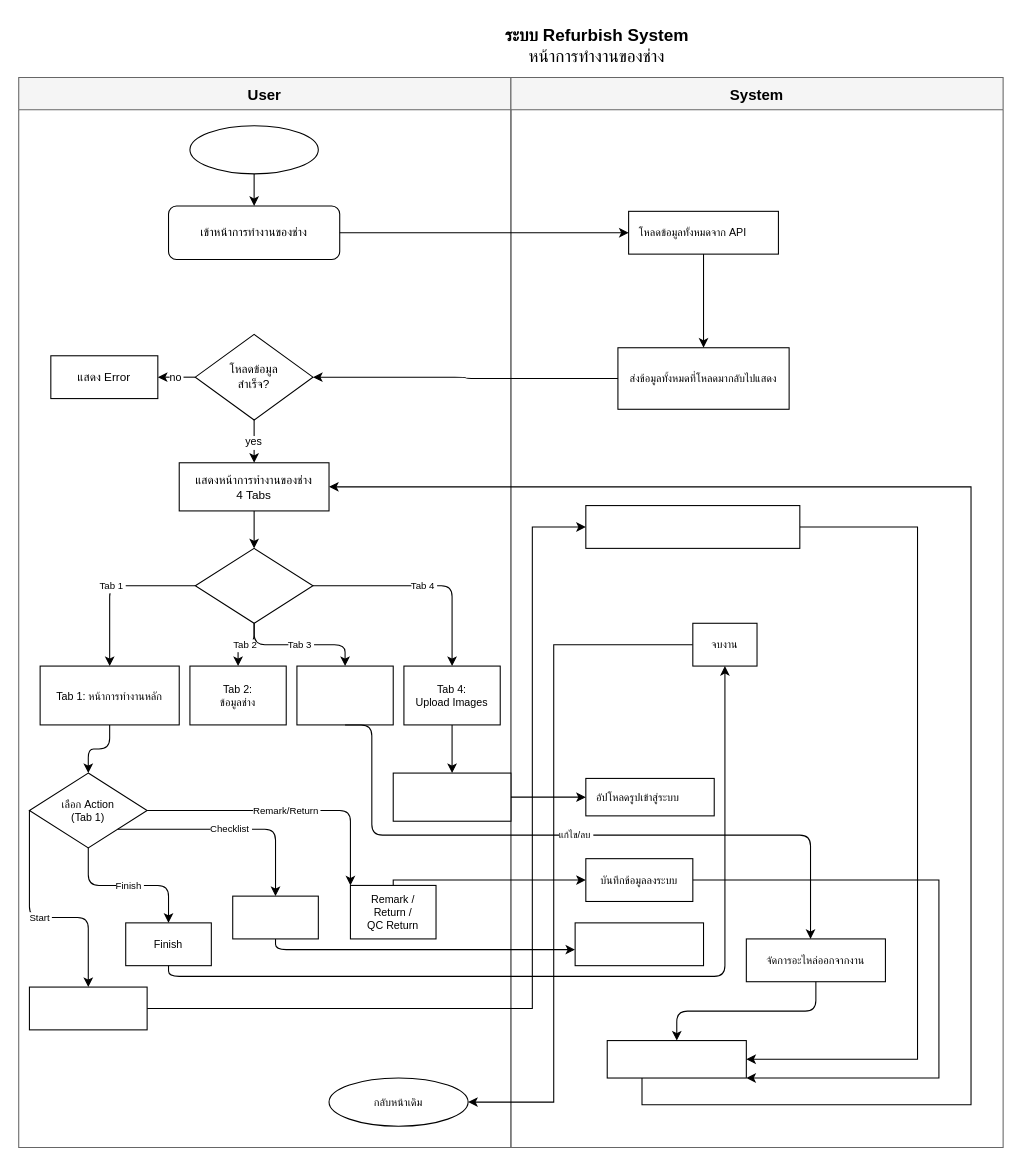
The diagram is 1022 pixels wide and 1166 high, and some of its shapes have lost their labels. Here are the shapes that lost their labels. From the top down, the centre of each, then its label:
At (253,149): "เริ่มต้น".
At (692,526): "บันทึกข้อมูลช่างที่ทำงานลงระบบ".
At (253,585): "เลือก Tab?".
At (344,695): "Tab 3: Spare Parts".
At (451,796): "เลือกรูป + กดบันทึกรูปทั้งหมด".
At (275,917): "Check List".
At (639,944): "บันทึก checklist ลงระบบ".
At (87,1008): "Start (เลือก Employee)".
At (676,1059): "Reload ข้อมูลใหม่".
